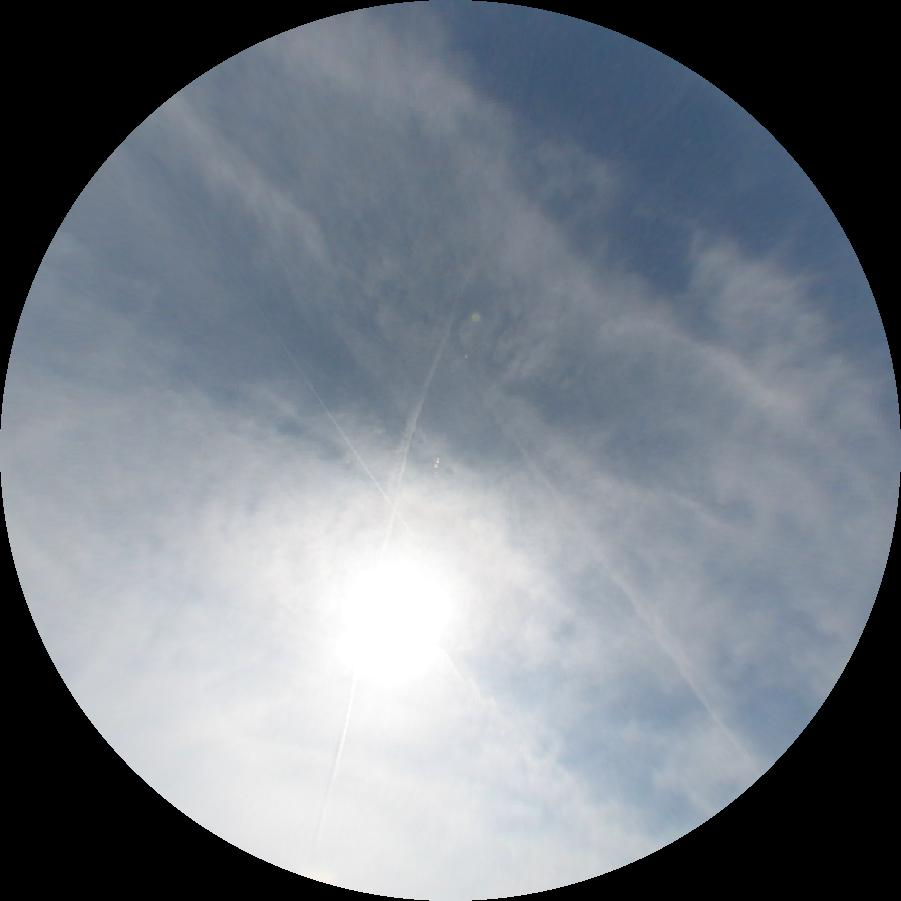contrail old: (448, 335, 764, 778), (316, 265, 475, 842)
contrail young: (243, 283, 415, 535)
sun: (340, 558, 450, 682)
